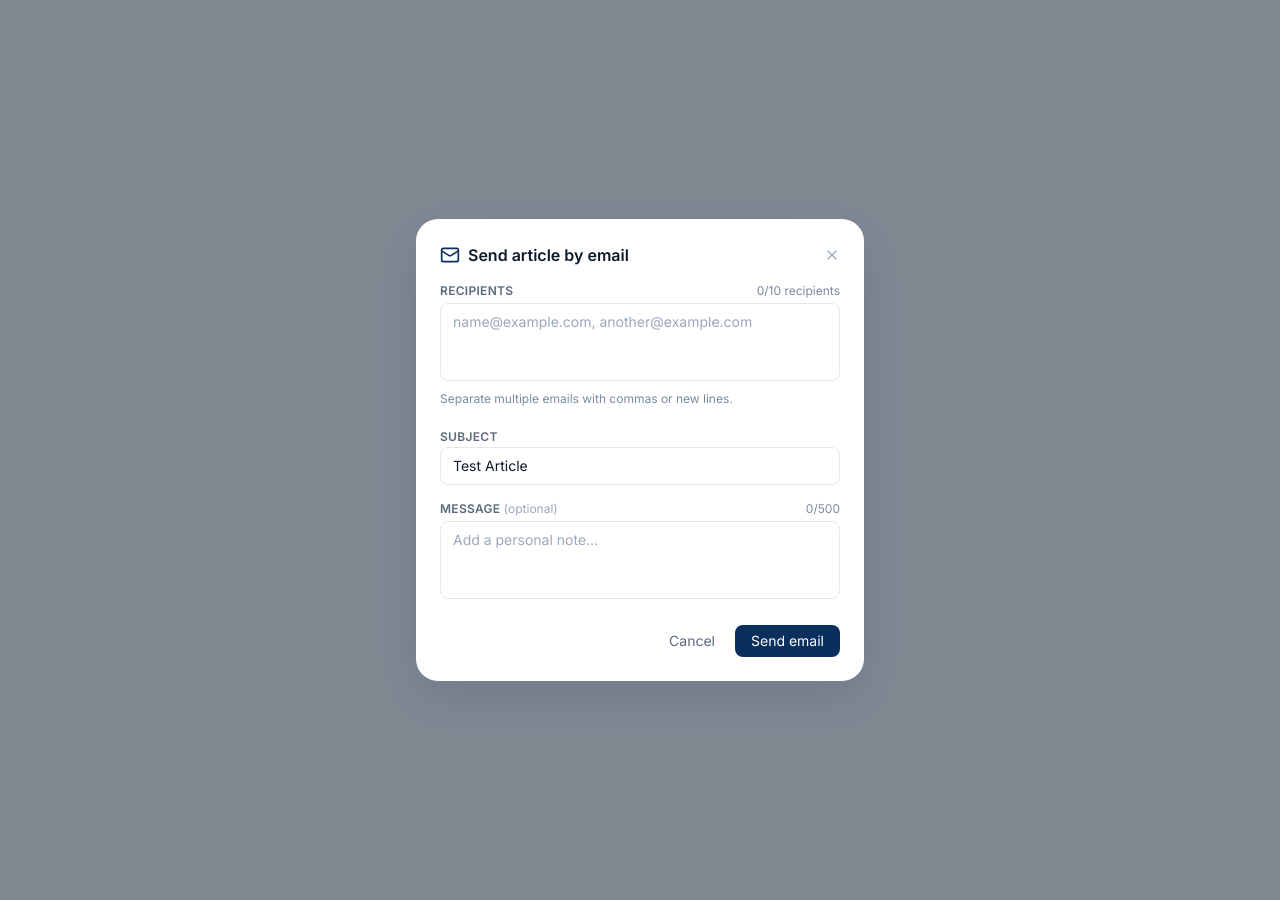
Test: EmailArticleModal (KR-084) › shows error when recipients field is empty on submit
Click the button "Send email" at (788, 641), box [735,625,840,657]
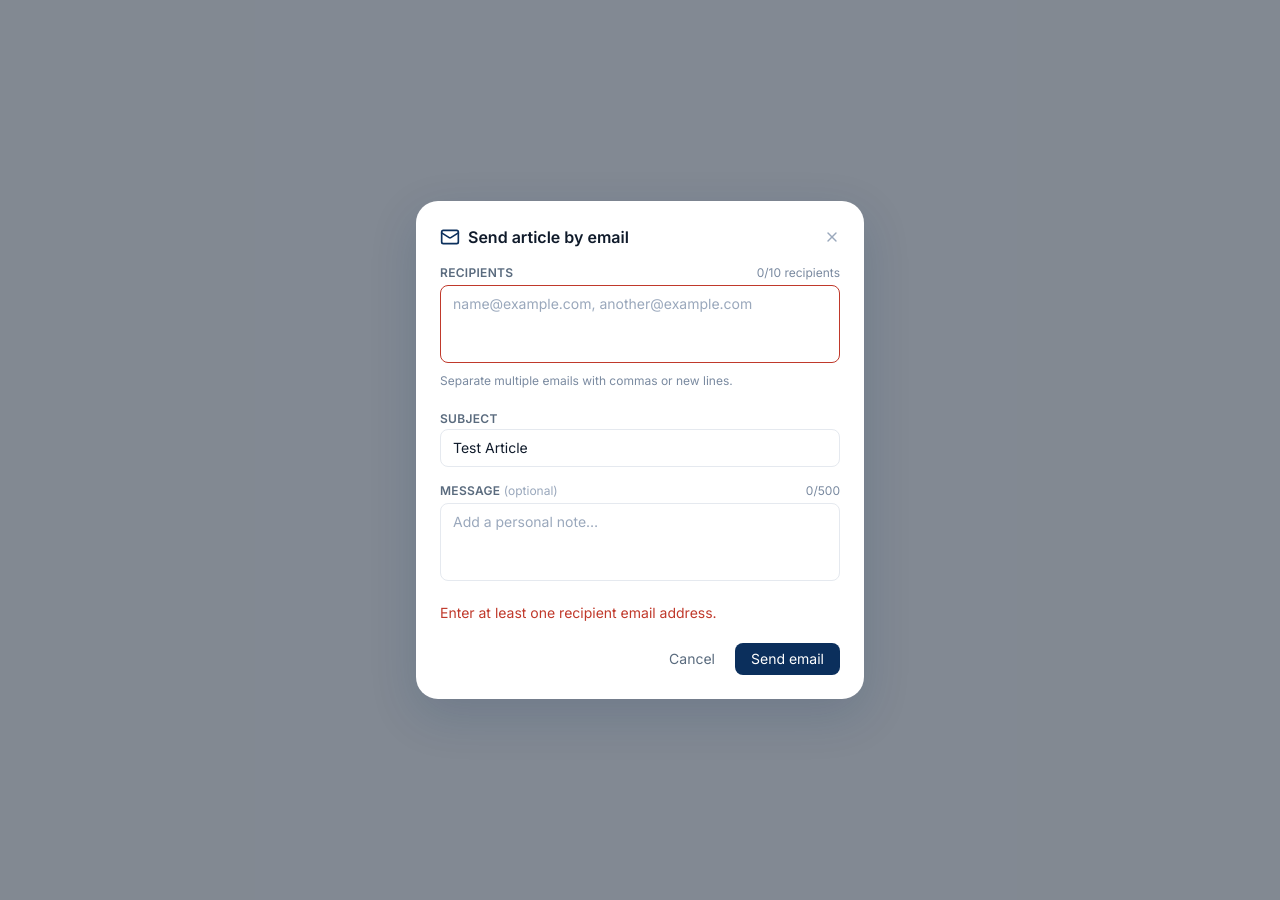
Now the text "Enter at least one recipient email address." is shown, box [440,604,717,621]
